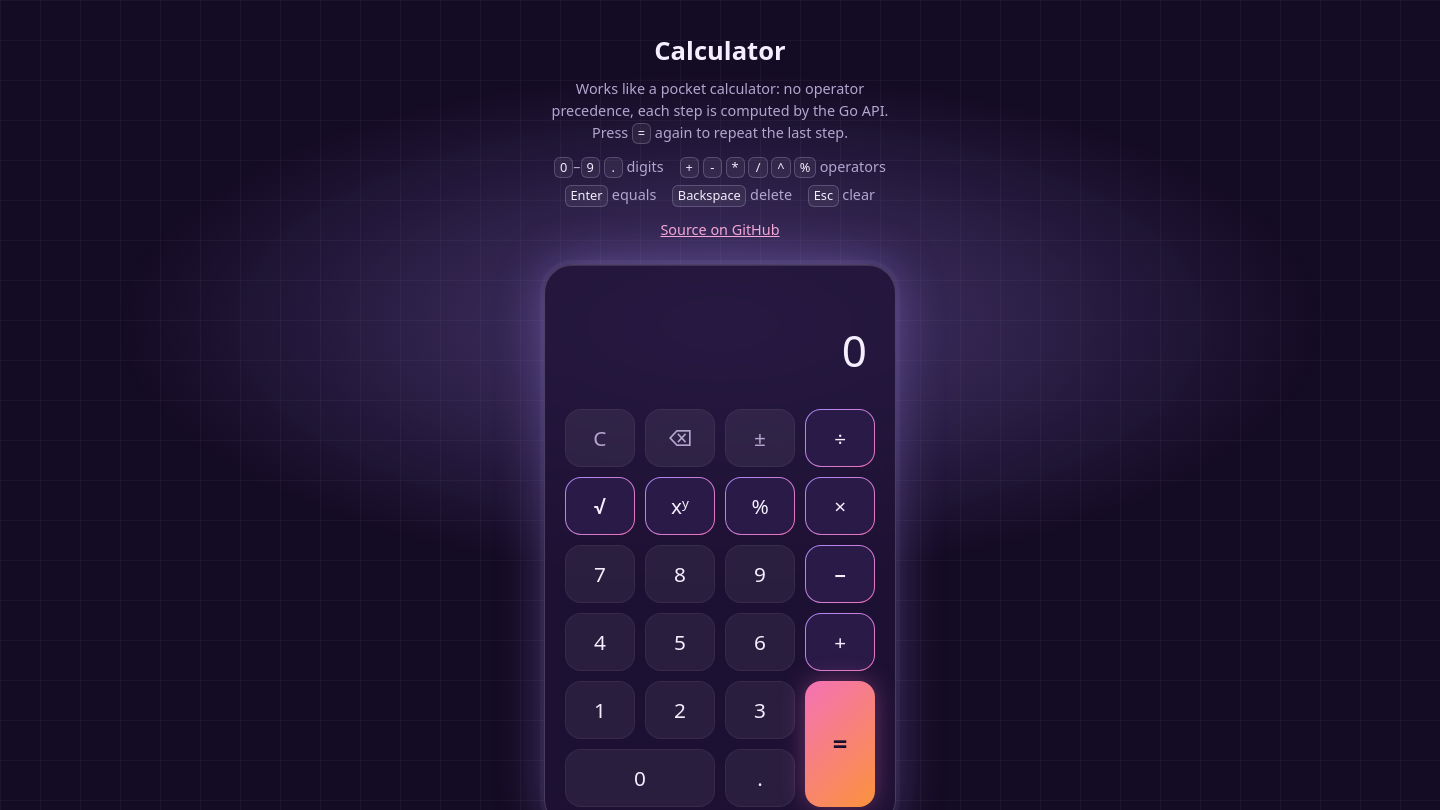
Test: App › runs unary operations
This screenshot has width=1440, height=810.
Click the button "8": (680, 574) x1=645 y1=545 x2=715 y2=603
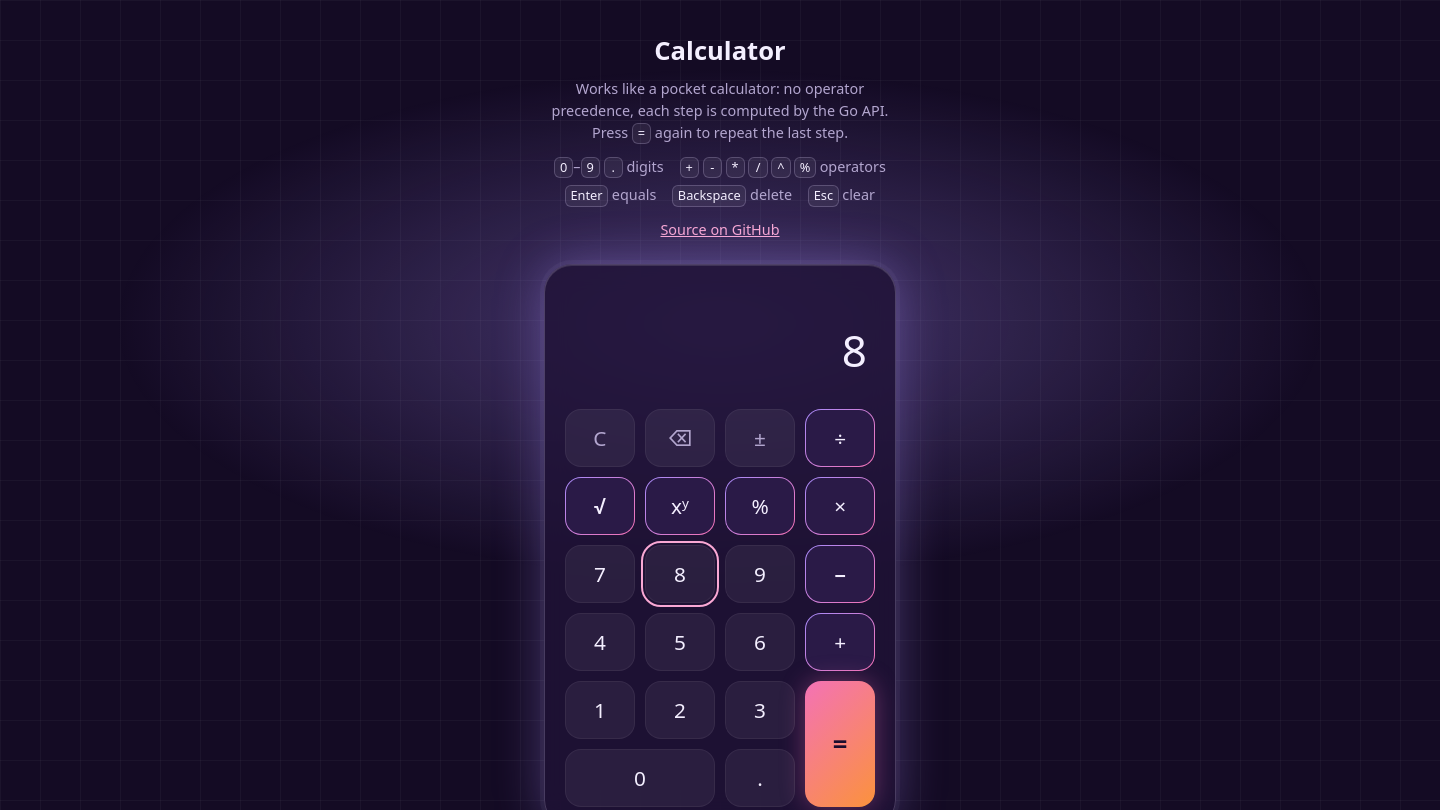
Click the button "1": (600, 710) x1=565 y1=681 x2=635 y2=739
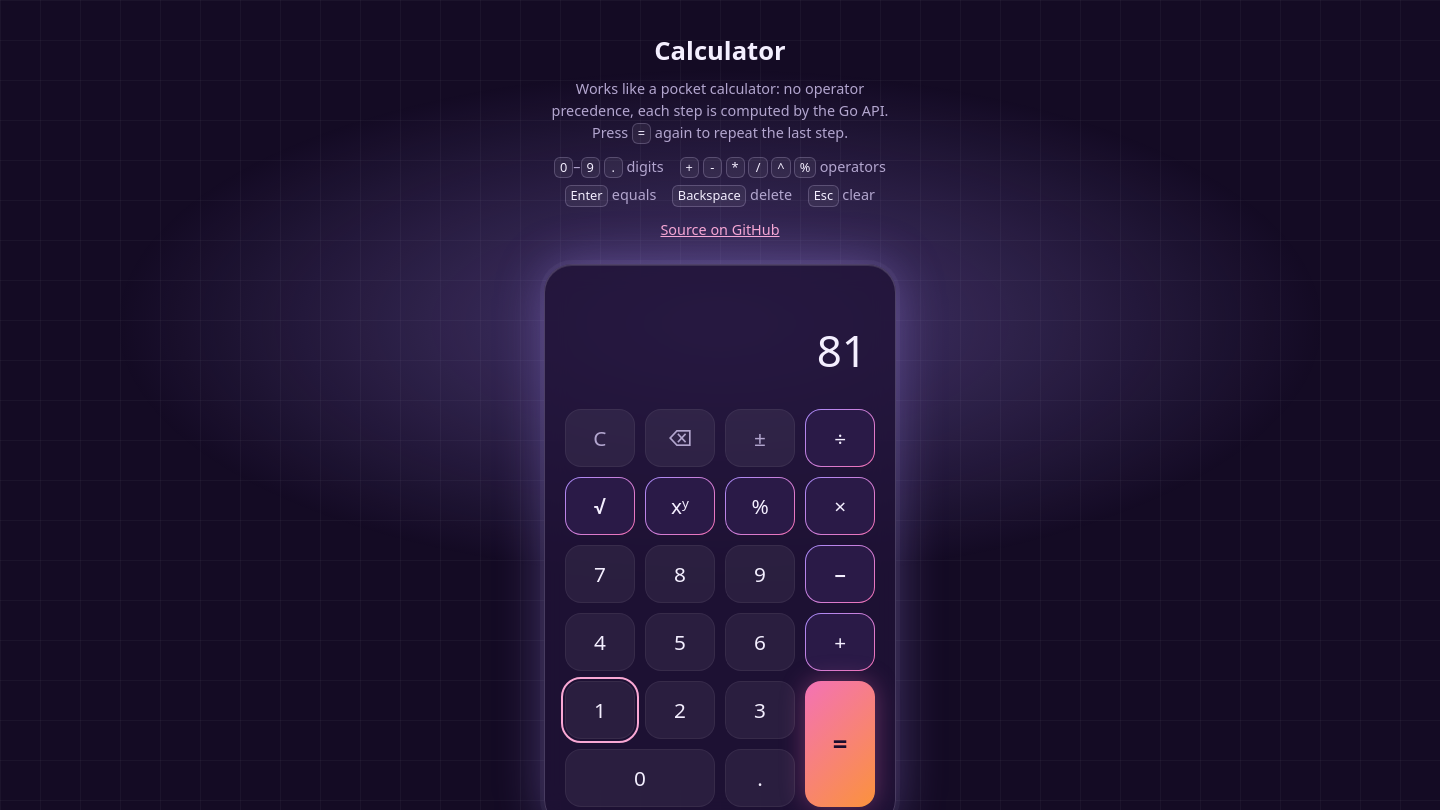
Click the button named "Square root": (600, 506) x1=565 y1=477 x2=635 y2=535
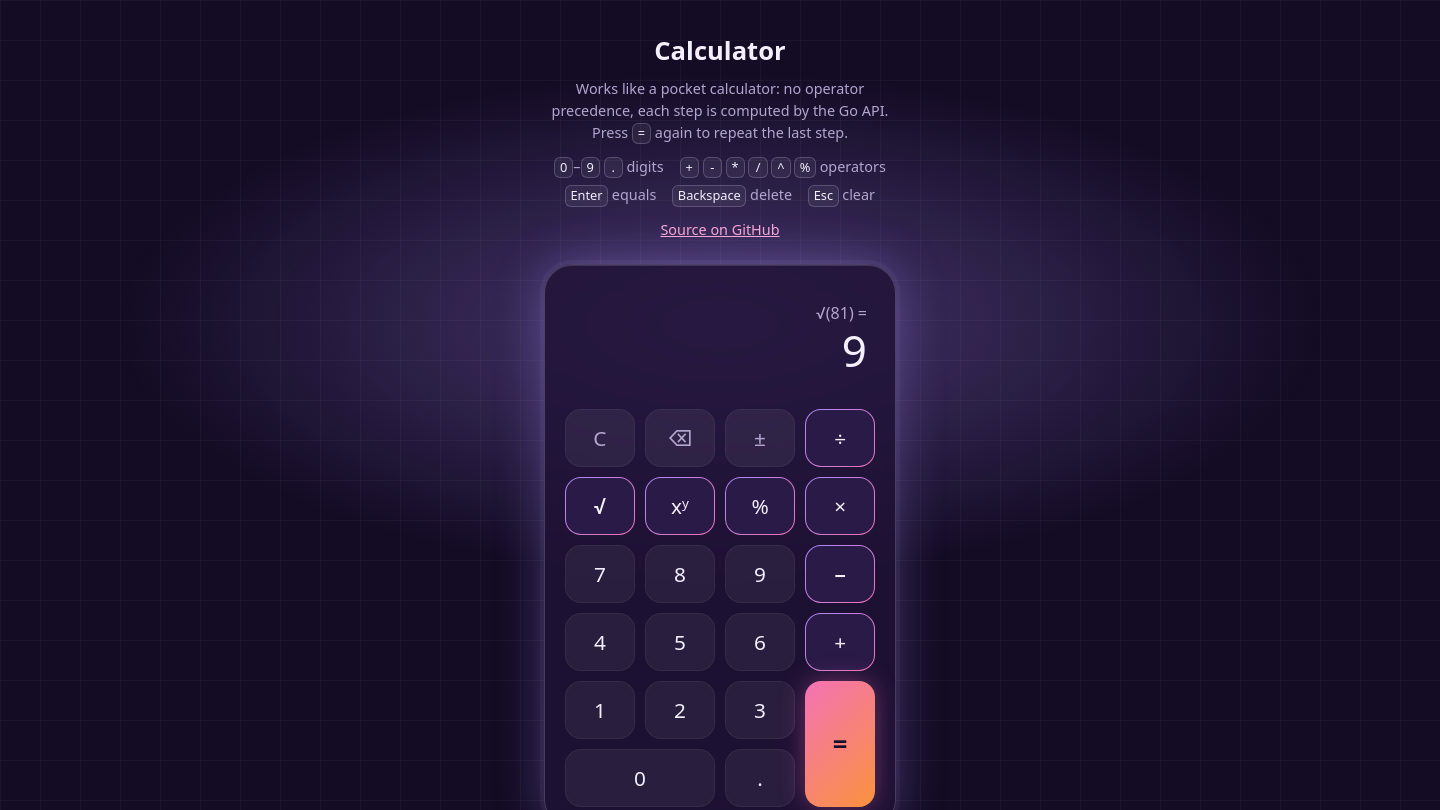
Now the text with test id "display" below "√(81) =" reads "9", box x1=842 y1=320 x2=867 y2=380
Now the text with test id "expression" reads "√(81) =", box x1=816 y1=302 x2=867 y2=324
